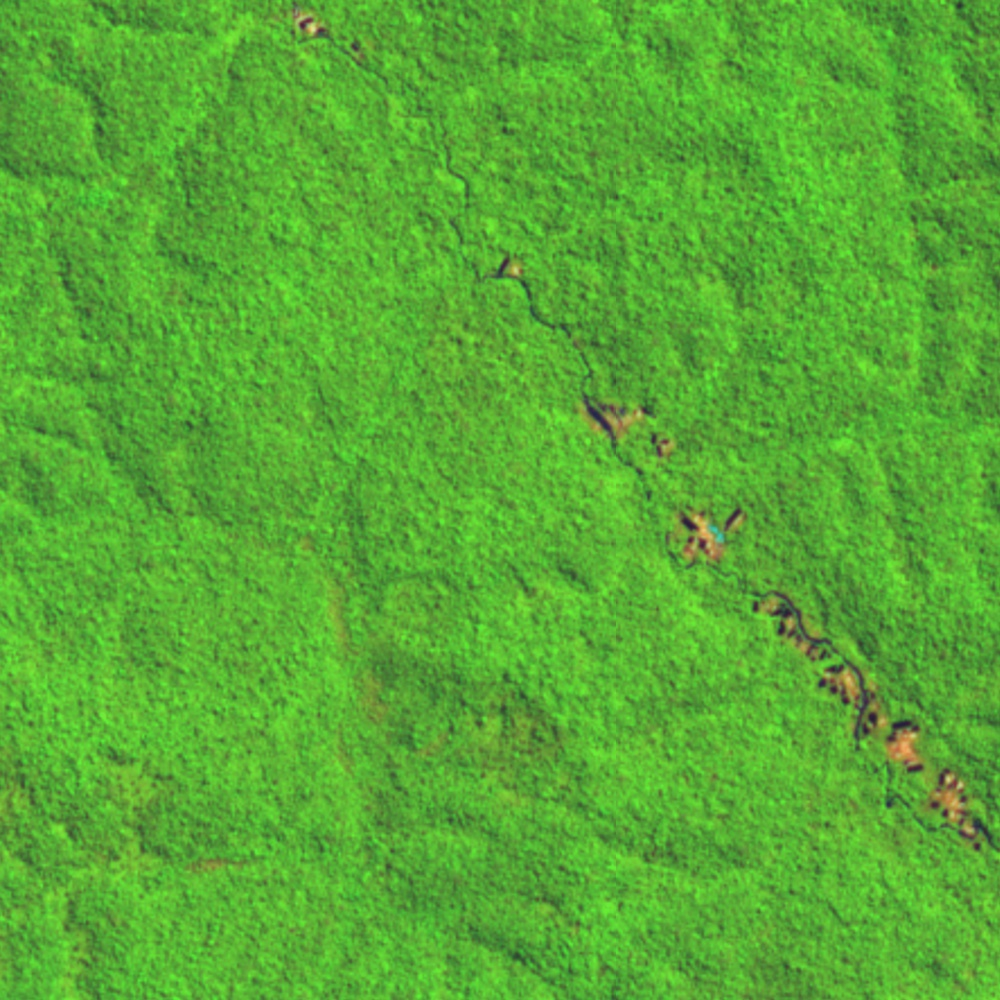illegal: (750, 584, 1000, 856), (559, 320, 678, 499), (279, 4, 379, 75), (662, 498, 752, 576), (471, 245, 530, 286)
